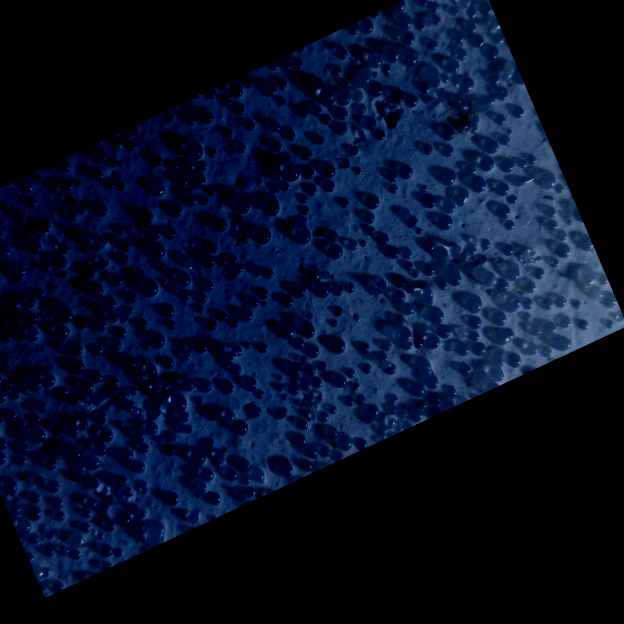GrassBeadSeg: (27, 181, 510, 522), (37, 59, 461, 412), (87, 107, 489, 464), (47, 144, 453, 485), (52, 214, 469, 509), (138, 83, 470, 453), (14, 319, 614, 510), (104, 263, 491, 529), (28, 164, 478, 391), (209, 146, 455, 506), (220, 243, 569, 494), (166, 220, 516, 456), (42, 126, 338, 387), (241, 244, 561, 479), (133, 253, 473, 474), (0, 231, 289, 469), (27, 189, 466, 341), (70, 194, 438, 375), (179, 95, 497, 299), (80, 192, 441, 368), (165, 164, 426, 399), (199, 184, 399, 481), (91, 143, 434, 309), (46, 218, 250, 492), (6, 278, 464, 399), (56, 140, 204, 514), (164, 325, 452, 504), (142, 162, 398, 362), (279, 138, 571, 308), (243, 204, 508, 391), (64, 307, 572, 404), (180, 275, 513, 422), (28, 242, 589, 329), (145, 148, 313, 435), (336, 123, 569, 320), (39, 262, 331, 417), (267, 154, 506, 339), (0, 287, 229, 464), (178, 184, 428, 342), (83, 152, 470, 252), (191, 183, 320, 465), (1, 270, 318, 383), (268, 227, 508, 375), (275, 201, 436, 418), (161, 168, 314, 392), (118, 318, 340, 472), (225, 163, 335, 473), (66, 287, 261, 461), (43, 349, 192, 575), (163, 206, 303, 440), (134, 276, 308, 440), (260, 226, 609, 307), (232, 87, 336, 357), (105, 280, 216, 531), (33, 297, 471, 359), (138, 324, 296, 492), (29, 246, 538, 294), (165, 231, 252, 503), (47, 241, 219, 376), (200, 268, 307, 474), (306, 81, 385, 359), (243, 295, 487, 385), (214, 237, 309, 463), (151, 230, 606, 277), (0, 304, 206, 403), (328, 245, 457, 393), (195, 298, 282, 495), (322, 186, 445, 323), (119, 187, 241, 324), (173, 353, 308, 476), (118, 337, 304, 426), (164, 160, 208, 512), (309, 166, 511, 242), (354, 4, 493, 114), (293, 185, 350, 444), (426, 295, 581, 387), (403, 247, 495, 396), (114, 319, 218, 445), (132, 288, 212, 445), (421, 336, 572, 419), (276, 276, 387, 388), (316, 282, 580, 329), (199, 180, 336, 268), (59, 308, 134, 464), (200, 227, 272, 382), (172, 394, 353, 450), (229, 317, 307, 446), (188, 97, 211, 524), (3, 312, 132, 385), (39, 157, 118, 276), (246, 337, 346, 419), (28, 131, 133, 206), (333, 281, 413, 374), (174, 145, 300, 204), (264, 165, 415, 213), (276, 382, 367, 461), (252, 411, 366, 470), (482, 184, 567, 263), (381, 13, 491, 73), (320, 21, 374, 143), (483, 273, 609, 325), (207, 296, 260, 419), (183, 378, 331, 422), (62, 179, 127, 276), (96, 190, 216, 242), (12, 225, 133, 276), (175, 101, 245, 186), (304, 379, 381, 456), (455, 22, 508, 132), (163, 340, 235, 419), (146, 421, 240, 481), (313, 51, 373, 143), (411, 365, 505, 422), (358, 358, 431, 430), (154, 130, 233, 195), (245, 287, 270, 485), (183, 425, 266, 483), (151, 331, 228, 392), (329, 211, 397, 276), (114, 111, 194, 165), (64, 279, 159, 324), (411, 199, 456, 290), (203, 76, 255, 154), (279, 47, 349, 102), (183, 94, 232, 171), (237, 308, 504, 322), (376, 216, 414, 314), (216, 341, 262, 416), (269, 60, 312, 140), (418, 17, 499, 59), (477, 176, 556, 216), (213, 341, 268, 397), (360, 292, 398, 373), (442, 199, 488, 264), (392, 215, 449, 264), (119, 240, 139, 370), (47, 461, 92, 517), (52, 179, 126, 213), (16, 511, 56, 573), (115, 277, 167, 324), (390, 290, 408, 425), (231, 59, 292, 98), (246, 342, 314, 376), (212, 199, 280, 232), (352, 109, 386, 174), (204, 87, 331, 104), (80, 439, 127, 484), (416, 217, 453, 274), (0, 203, 12, 377), (301, 368, 356, 405), (493, 154, 549, 189), (0, 200, 34, 257), (459, 46, 499, 93), (92, 136, 136, 178), (434, 49, 467, 105), (456, 97, 524, 124), (31, 532, 63, 589), (150, 244, 191, 288), (471, 172, 556, 193), (1, 437, 100, 454), (14, 179, 53, 221), (228, 358, 317, 376), (318, 360, 348, 413), (513, 284, 589, 304), (366, 92, 405, 130), (49, 387, 67, 468), (99, 504, 138, 538), (7, 457, 27, 520), (60, 255, 165, 267), (89, 488, 134, 514), (30, 428, 107, 443), (364, 339, 396, 373), (82, 298, 117, 329), (400, 313, 430, 347), (74, 319, 103, 354), (81, 521, 110, 554), (20, 520, 47, 555), (84, 253, 124, 276), (59, 549, 81, 590), (394, 81, 430, 106), (0, 422, 29, 453), (181, 424, 215, 450), (24, 449, 41, 501), (70, 423, 89, 469), (387, 247, 408, 288), (15, 387, 33, 434), (11, 480, 33, 518), (526, 312, 545, 355), (528, 275, 538, 354), (271, 101, 287, 150), (97, 283, 153, 297), (88, 372, 104, 419), (0, 419, 24, 450), (43, 255, 60, 297), (385, 46, 419, 66), (97, 530, 124, 555), (114, 274, 138, 302), (172, 255, 191, 290), (291, 343, 304, 394), (176, 339, 236, 350), (63, 382, 94, 403), (165, 227, 185, 259), (136, 338, 151, 380), (467, 294, 484, 329), (482, 155, 515, 172), (79, 409, 107, 428), (143, 204, 183, 217), (64, 527, 83, 554), (496, 267, 519, 289), (501, 112, 516, 145), (0, 411, 41, 423), (130, 380, 153, 401), (29, 314, 68, 326), (108, 292, 137, 308), (31, 538, 55, 556), (149, 248, 166, 271), (224, 381, 234, 420), (118, 400, 135, 422), (174, 270, 191, 292), (371, 48, 389, 68), (109, 306, 133, 321), (530, 323, 542, 353), (133, 508, 160, 521), (117, 323, 147, 334), (330, 405, 338, 445), (110, 377, 145, 386), (60, 544, 81, 559), (77, 316, 102, 328), (93, 344, 122, 354), (489, 269, 510, 282), (9, 411, 26, 427), (112, 331, 127, 349), (534, 321, 556, 333), (380, 417, 396, 433), (84, 496, 98, 514), (501, 278, 511, 303), (543, 331, 553, 356), (130, 386, 160, 394), (116, 253, 123, 287), (124, 512, 138, 528), (153, 241, 165, 259), (302, 166, 317, 180), (143, 384, 168, 392), (100, 428, 107, 454), (32, 500, 41, 520), (467, 330, 481, 342), (295, 391, 322, 397), (114, 376, 121, 399), (140, 520, 156, 530), (88, 264, 96, 284), (102, 428, 114, 440), (153, 522, 165, 533), (117, 254, 129, 265), (57, 328, 69, 339), (197, 340, 207, 353), (22, 520, 32, 533), (97, 319, 107, 332), (119, 389, 130, 400), (167, 228, 177, 240), (7, 380, 14, 397), (107, 547, 121, 555), (32, 412, 42, 422), (6, 484, 17, 493), (119, 514, 127, 526), (170, 204, 174, 226), (609, 294, 617, 305), (432, 375, 441, 384), (211, 345, 219, 355), (35, 288, 43, 298), (56, 324, 63, 335), (110, 275, 116, 287), (587, 276, 595, 285), (537, 268, 545, 277), (498, 285, 508, 292), (92, 286, 98, 297), (551, 258, 559, 266), (41, 430, 46, 442), (507, 269, 512, 281), (603, 295, 607, 306), (429, 385, 438, 389), (33, 428, 43, 431), (509, 305, 519, 308), (517, 271, 521, 278), (486, 283, 494, 286), (136, 530, 144, 532), (241, 480, 244, 485), (511, 279, 517, 281), (607, 306, 613, 308)
